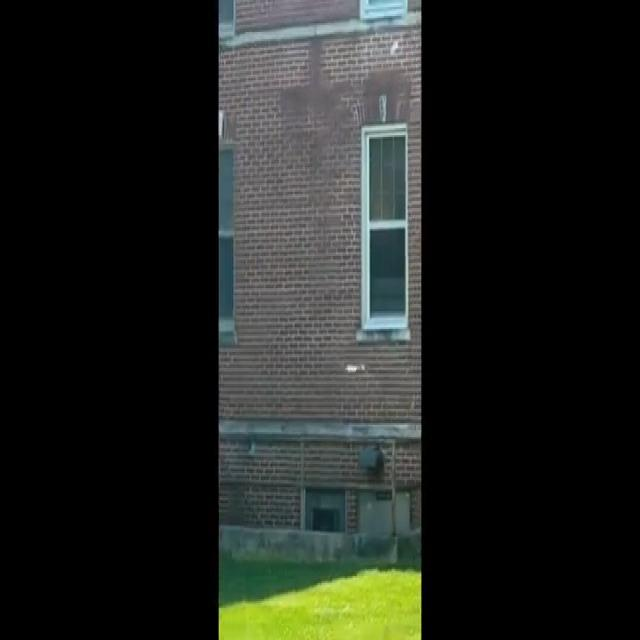drone: (341, 354, 373, 381)
